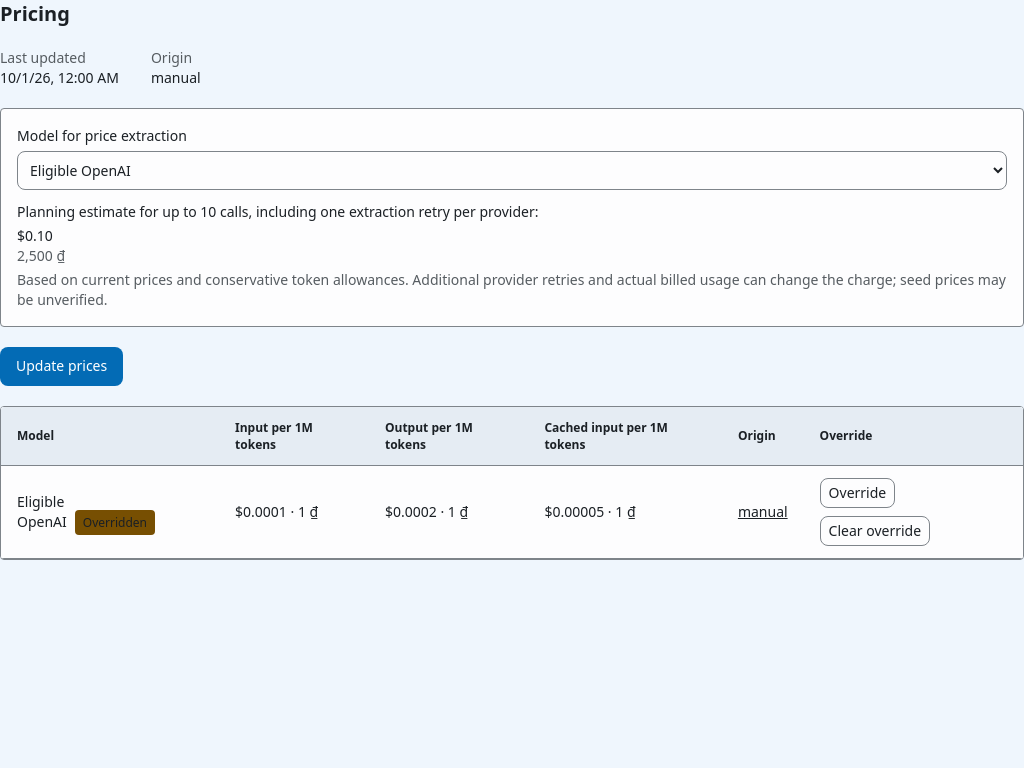
Test case: PricingSettingsPage › clears a confirmed manual override and refreshes the price rows
The image size is (1024, 768).
Expected: the text "Overridden" is shown, [75,510,155,535]
Click the button "Clear override".
click(875, 531)  # box [820,516,930,546]
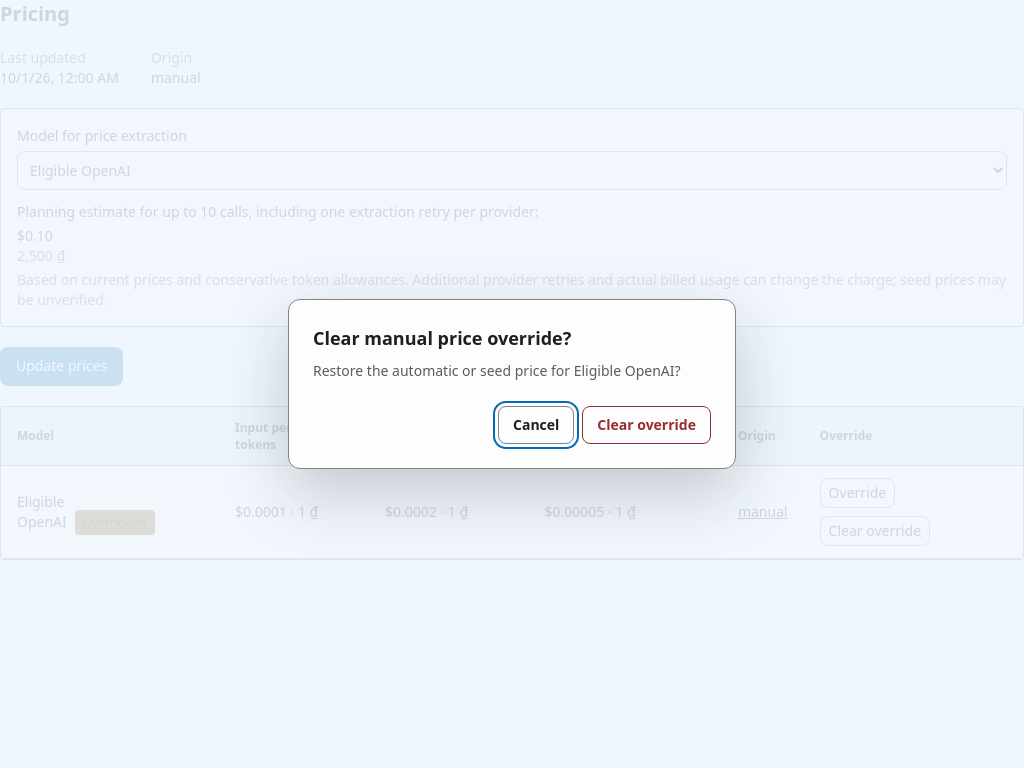
Result: the dialog "Clear manual price override?" shows "Restore the automatic or seed price for Eligible OpenAI?" at [313,361,681,380]
Click the button "Clear override".
click(647, 425)  # box [582,406,711,444]
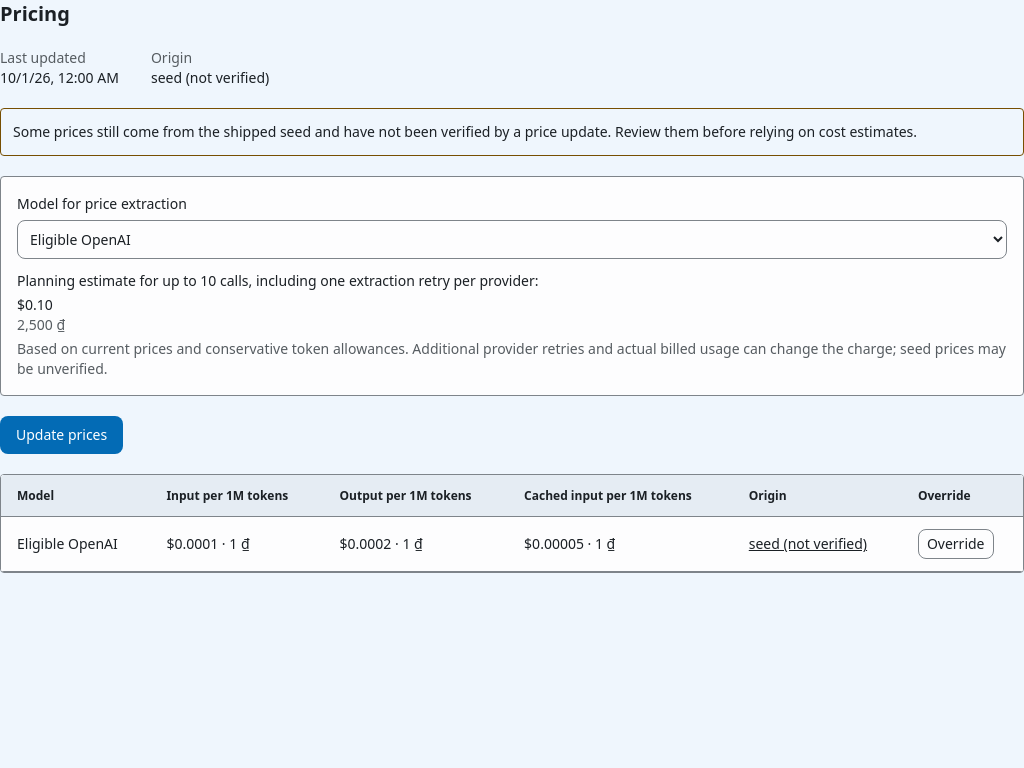
Result: the text "Overridden" is gone
